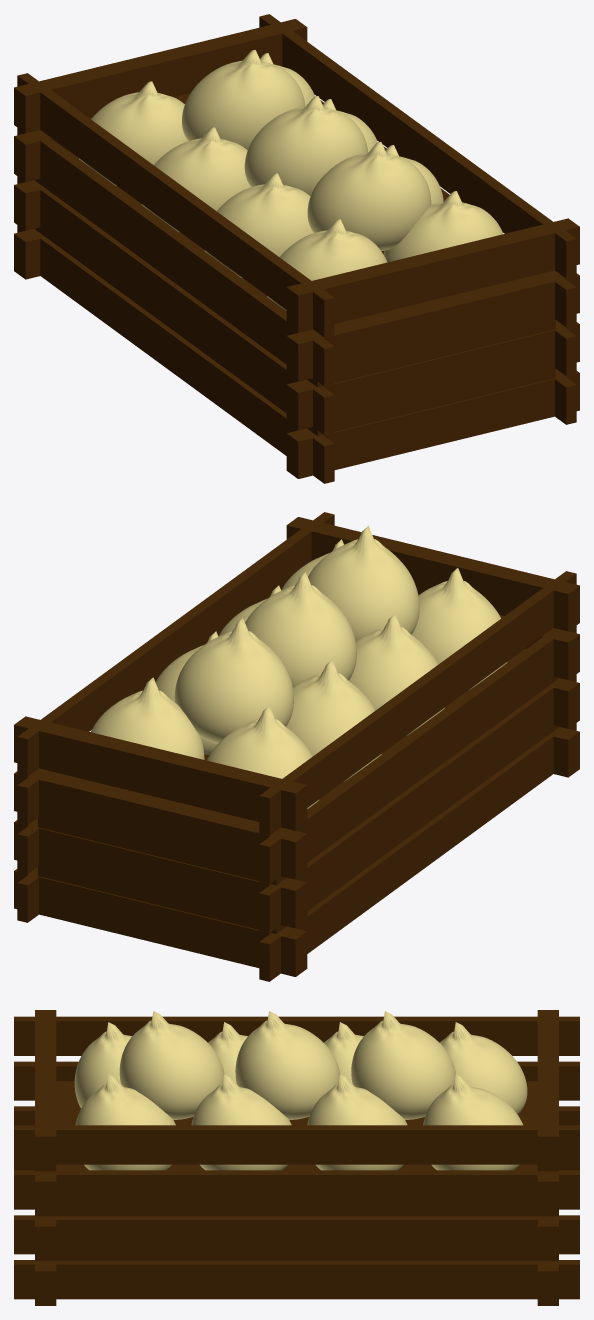
Rendered from onion-crate.fbx.
The picture shows the model from 3 angles, top to bottom: view 1: azimuth 30°, elevation 25°; view 2: azimuth 150°, elevation 25°; view 3: azimuth 270°, elevation 25°; orthographic projection. The views are drawn at different scales.
Parts seen in each view (by area): view 1: Cube.001, Sphere.003, Sphere.002, Sphere.001; view 2: Cube.001, Sphere.003, Sphere.002, Sphere.001; view 3: Cube.001, Sphere.003, Sphere.001, Sphere.002.
Part boxes in pixels (box(x1,y1,x2,y2)): Cube.001: box(14, 14, 579, 483); Sphere.003: box(182, 50, 431, 250); Sphere.002: box(79, 81, 387, 310); Sphere.001: box(260, 53, 503, 262); Cube.001: box(14, 512, 579, 981); Sphere.003: box(174, 526, 419, 743); Sphere.002: box(207, 568, 507, 808); Sphere.001: box(91, 539, 343, 759); Cube.001: box(14, 1010, 579, 1305); Sphere.003: box(119, 1011, 455, 1119); Sphere.001: box(75, 1074, 522, 1170); Sphere.002: box(74, 1022, 527, 1114).
Bounding box in the file's own units: 241 × 208 × 455.
